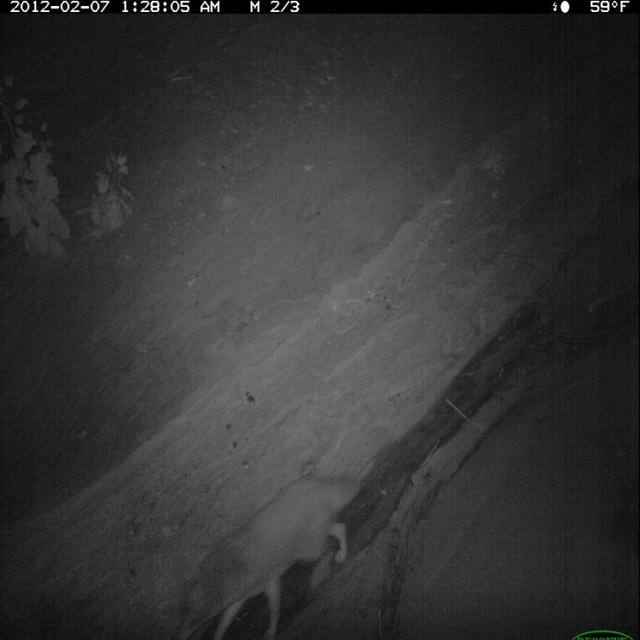coyote: (170, 469, 364, 640)
